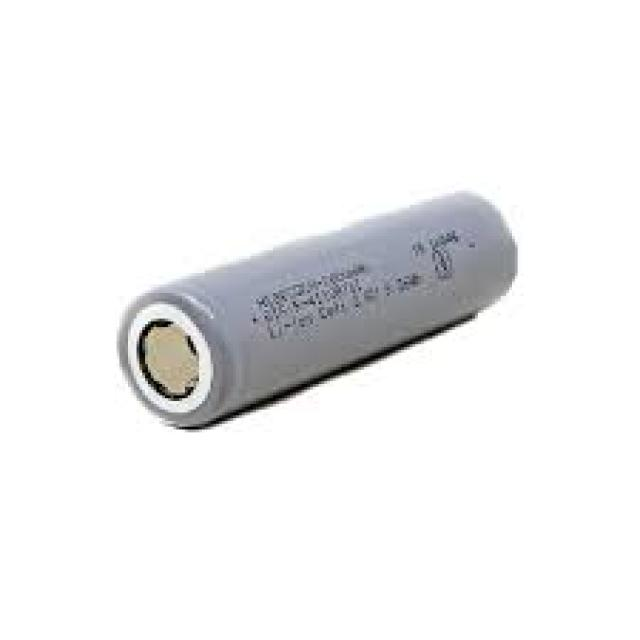Battery: (114, 191, 521, 432)
